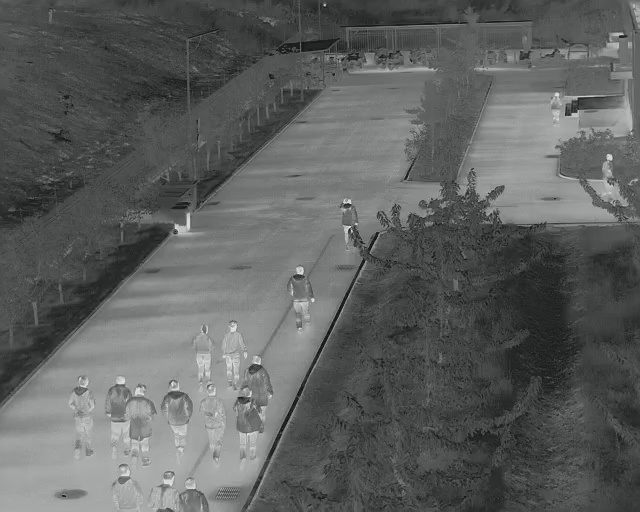person: (236, 387, 261, 467), (128, 383, 152, 465), (202, 384, 225, 463), (165, 378, 188, 455), (71, 376, 93, 456), (244, 354, 273, 414), (108, 377, 130, 456), (288, 266, 314, 332), (114, 465, 143, 512), (148, 470, 180, 511), (224, 321, 243, 389), (179, 477, 210, 512), (340, 197, 359, 250), (196, 324, 211, 386), (601, 153, 613, 198), (549, 91, 560, 126)
